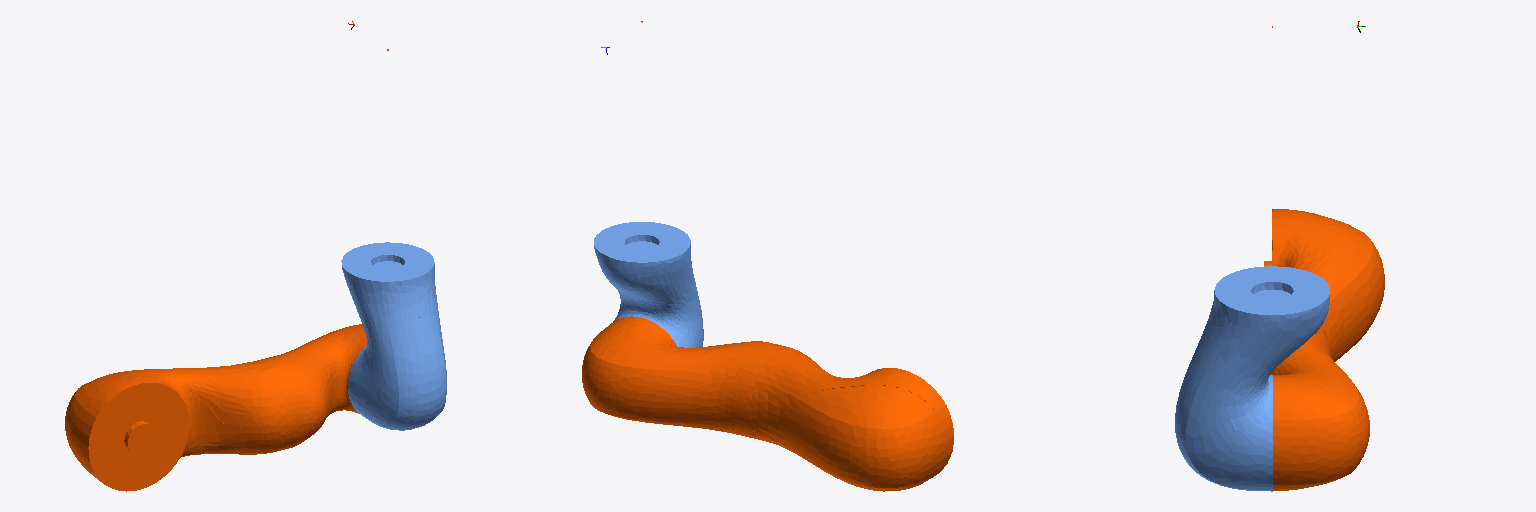
robot.urdf — lbr_iiwa:
<?xml version='1.0' encoding='UTF-8'?>
<!-- ======================================================================= -->
<!-- | This document was autogenerated by xacro from lbr_iiwa.urdf.xacro   | -->
<!-- | Original xacro: https://github.com/rtkg/lbr_iiwa/archive/master.zip | -->
<!-- | EDITING THIS FILE BY HAND IS NOT RECOMMENDED                        | -->
<!-- | Changes ([author]):                                                 | -->
<!-- |   * Removed gazebo tags.                                            | -->
<!-- |   * Removed unused materials.                                       | -->
<!-- |   * Made mesh paths relative.                                       | -->
<!-- |   * Removed material fields from collision segments.                | -->
<!-- |   * Removed the self_collision_checking segment.                    | -->
<!-- |   * Removed transmission segments, since they didn't match the      | -->
<!-- |     convention, will have to added back later.                      | -->
<!-- ======================================================================= -->
<!--LICENSE:                                                                 -->
<!--Copyright (c) 2015, [author] & [author], AASS Research Center,  -->
<!--Orebro University, Sweden                                                -->
<!--All rights reserved.                                                     -->
<!--                                                                         -->
<!--Redistribution and use in source and binary forms, with or without       -->
<!--modification, are permitted provided that the following conditions are   -->
<!--met:                                                                     -->
<!--                                                                         -->
<!--1. Redistributions of source code must retain the above copyright notice,-->
<!--   this list of conditions and the following disclaimer.                 -->
<!--                                                                         -->
<!--2. Redistributions in binary form must reproduce the above copyright     -->
<!--   notice, this list of conditions and the following disclaimer in the   -->
<!--   documentation and/or other materials provided with the distribution.  -->
<!--                                                                         -->
<!--THIS SOFTWARE IS PROVIDED BY THE COPYRIGHT [author] "AS  -->
<!--IS" AND ANY EXPRESS OR IMPLIED WARRANTIES, INCLUDING, BUT NOT LIMITED TO,-->
<!--THE IMPLIED WARRANTIES OF MERCHANTABILITY AND FITNESS FOR A PARTICULAR   -->
<!--PURPOSE ARE DISCLAIMED. IN NO EVENT SHALL THE COPYRIGHT [author]        -->
<!--CONTRIBUTORS BE LIABLE FOR ANY DIRECT, INDIRECT, INCIDENTAL, SPECIAL,    -->
<!--EXEMPLARY, OR CONSEQUENTIAL DAMAGES (INCLUDING, BUT NOT LIMITED TO,      -->
<!--PROCUREMENT OF SUBSTITUTE GOODS OR SERVICES; LOSS OF USE, DATA, OR       -->
<!--PROFITS; OR BUSINESS INTERRUPTION) HOWEVER CAUSED AND ON ANY THEORY OF   -->
<!--LIABILITY, WHETHER IN CONTRACT, STRICT LIABILITY, OR TORT (INCLUDING     -->
<!--NEGLIGENCE OR OTHERWISE) ARISING IN ANY WAY OUT OF THE USE OF THIS       -->
<!--SOFTWARE, EVEN IF ADVISED OF THE POSSIBILITY OF SUCH DAMAGE.             -->
<robot xmlns:xacro="http://www.ros.org/wiki/xacro" name="lbr_iiwa">
  <!-- Import Rviz colors -->
  <material name="Grey">
    <color rgba="0.2 0.2 0.2 0.6"/>
  </material>
  <material name="Orange">
    <color rgba="1.0 0.423529411765 0.0392156862745 0.6"/>
  </material>
  <material name="Blue">
    <color rgba="0.5 0.7 1.0 0.6"/>
  </material>
  <material name="White">
    <color rgba="0.9 0.85 0.9 1.0"/>
    <diffuse>0.9 0.9 0.9 1</diffuse>
    <specular>0.1 0.1 0.1 1</specular>
  </material>
  <material name="marker_red">
    <color rgba="1.0 0.0 0.0 1.0"/>
  </material>
  <material name="marker_green">
    <color rgba="0.0 1.0 0.0 1.0"/>
  </material>
  <material name="marker_blue">
    <color rgba="0.0 0.0 1.0 1.0"/>
  </material>
  <!--Import the lbr iiwa macro -->
  <!--Import Transmissions -->
  <!--Include Utilities -->
  <!--The following macros are adapted from the LWR 4 definitions of the RCPRG - https://github.com/RCPRG-ros-pkg/lwr_robot -->
  <!--Little helper macros to define the inertia matrix needed for links.-->
  <!--Cuboid-->
  <!--Cylinder: length is along the y-axis! -->
  <!--lbr-->
  <link name="lbr_iiwa_link_0">
    <inertial>
      <origin rpy="0 0 0" xyz="-0.1 0 0.07"/>
      <!--Increase mass from 5 Kg original to provide a stable base to carry the
          arm.-->
      <mass value="0.0"/>
      <inertia ixx="0.05" ixy="0" ixz="0" iyy="0.06" iyz="0" izz="0.03"/>
    </inertial>
    <visual>
      <origin rpy="0 0 0" xyz="0 0 0"/>
      <geometry>
        <mesh filename="meshes/link_0.obj"/>
      </geometry>
      <material name="Grey"/>
    </visual>
    <collision>
      <origin rpy="0 0 0" xyz="0 0 0"/>
      <geometry>
        <mesh filename="meshes/link_0.stl"/>
      </geometry>
    </collision>
  </link>
  <!-- joint between link_0 and link_1 -->
  <joint name="lbr_iiwa_joint_1" type="revolute">
    <parent link="lbr_iiwa_link_0"/>
    <child link="lbr_iiwa_link_1"/>
    <origin rpy="0 0 0" xyz="0 0 0.1575"/>
    <axis xyz="0 0 1"/>
    <limit effort="300" lower="-2.96705972839" upper="2.96705972839" velocity="10"/>
    <dynamics damping="0.5"/>
  </joint>
  <link name="lbr_iiwa_link_1">
    <inertial>
      <origin rpy="0 0 0" xyz="0 -0.03 0.12"/>
      <mass value="4"/>
      <inertia ixx="0.1" ixy="0" ixz="0" iyy="0.09" iyz="0" izz="0.02"/>
    </inertial>
    <visual>
      <origin rpy="0 0 0" xyz="0 0 0"/>
      <geometry>
        <mesh filename="meshes/link_1.obj"/>
      </geometry>
      <material name="Blue"/>
    </visual>
    <collision>
      <origin rpy="0 0 0" xyz="0 0 0"/>
      <geometry>
        <mesh filename="meshes/link_1.stl"/>
      </geometry>
    </collision>
  </link>
  <!-- joint between link_1 and link_2 -->
  <joint name="lbr_iiwa_joint_23" type="revolute">
    <parent link="lbr_iiwa_link_1"/>
    <child link="lbr_iiwa_link_23"/>
    <origin rpy="-1.57079632679   0 0" xyz="0 0 0.2025"/>
    <axis xyz="0 0 1"/>
    <limit effort="300" lower="-2.09439510239" upper="2.09439510239" velocity="10"/>
    <dynamics damping="0.5"/>
  </joint>
  <link name="lbr_iiwa_link_23">
    <inertial>
      <origin rpy="0 0 0" xyz="0.0003 0.059 0.042"/>
      <mass value="4"/>
      <inertia ixx="0.05" ixy="0" ixz="0" iyy="0.018" iyz="0" izz="0.044"/>
    </inertial>
    <visual>
      <origin rpy="0 0 0" xyz="0 0 0"/>
      <geometry>
        <mesh filename="meshes/link_23.stl"/>
      </geometry>
      <material name="Orange"/>
    </visual>
    <collision>
      <origin rpy="0 0 0" xyz="0 0 0"/>
      <geometry>
        <mesh filename="meshes/link_23.stl"/>
      </geometry>
    </collision>
  </link>
  <!-- joint between link_3 and link_4 -->
  <joint name="lbr_iiwa_joint_4" type="revolute">
    <parent link="lbr_iiwa_link_23"/>
    <child link="lbr_iiwa_link_4"/>
    <origin rpy="3.14159265359 0 0" xyz="0.42 0 0"/>
    <axis xyz="0 0 1"/>
    <limit effort="300" lower="-2.09439510239" upper="2.09439510239" velocity="10"/>
    <dynamics damping="0.5"/>
  </joint>
  <link name="lbr_iiwa_link_4">
    <inertial>
      <origin rpy="0 0 0" xyz="0 0.067 0.034"/>
      <mass value="2.7"/>
      <inertia ixx="0.03" ixy="0" ixz="0" iyy="0.01" iyz="0" izz="0.029"/>
    </inertial>
    <visual>
      <origin rpy="0 0 0" xyz="0 0 0"/>
      <geometry>
        <mesh filename="meshes/link_4.stl"/>
      </geometry>
      <material name="Blue"/>
    </visual>
    <collision>
      <origin rpy="0 0 0" xyz="0 0 0"/>
      <geometry>
        <mesh filename="meshes/link_4.stl"/>
      </geometry>
    </collision>
  </link>
  <!-- joint between link_4 and link_5 -->
  <joint name="lbr_iiwa_joint_5" type="revolute">
    <parent link="lbr_iiwa_link_4"/>
    <child link="lbr_iiwa_link_5"/>
    <origin rpy="-1.57079632679 3.14159265359 0" xyz="0 0.1845 0"/>
    <axis xyz="0 0 1"/>
    <limit effort="300" lower="-2.96705972839" upper="2.96705972839" velocity="10"/>
    <dynamics damping="0.5"/>
  </joint>
  <link name="lbr_iiwa_link_5">
    <inertial>
      <origin rpy="0 0 0" xyz="0.0001 0.021 0.076"/>
      <mass value="1.7"/>
      <inertia ixx="0.02" ixy="0" ixz="0" iyy="0.018" iyz="0" izz="0.005"/>
    </inertial>
    <visual>
      <origin rpy="0 0 0" xyz="0 0 0"/>
      <geometry>
        <mesh filename="meshes/link_5.stl"/>
      </geometry>
      <material name="Blue"/>
    </visual>
    <collision>
      <origin rpy="0 0 0" xyz="0 0 0"/>
      <geometry>
        <mesh filename="meshes/link_5.stl"/>
      </geometry>
    </collision>
  </link>
  <!-- joint between link_5 and link_6 -->
  <joint name="lbr_iiwa_joint_6" type="revolute">
    <parent link="lbr_iiwa_link_5"/>
    <child link="lbr_iiwa_link_6"/>
    <origin rpy="1.57079632679 0 0" xyz="0 0 0.2155"/>
    <axis xyz="0 0 1"/>
    <limit effort="300" lower="-2.09439510239" upper="2.09439510239" velocity="10"/>
    <dynamics damping="0.5"/>
  </joint>
  <link name="lbr_iiwa_link_6">
    <inertial>
      <origin rpy="0 0 0" xyz="0 0.0006 0.0004"/>
      <mass value="1.8"/>
      <inertia ixx="0.005" ixy="0" ixz="0" iyy="0.0036" iyz="0" izz="0.0047"/>
    </inertial>
    <visual>
      <origin rpy="0 0 0" xyz="0 0 0"/>
      <geometry>
        <mesh filename="meshes/link_6.obj"/>
      </geometry>
      <material name="Orange"/>
    </visual>
    <collision>
      <origin rpy="0 0 0" xyz="0 0 0"/>
      <geometry>
        <mesh filename="meshes/link_6.stl"/>
      </geometry>
    </collision>
  </link>
  <!-- joint between link_6 and link_7 -->
  <joint name="lbr_iiwa_joint_7" type="revolute">
    <parent link="lbr_iiwa_link_6"/>
    <child link="lbr_iiwa_link_7"/>
    <origin rpy="-1.57079632679 3.14159265359 0" xyz="0 0.081 0"/>
    <axis xyz="0 0 1"/>
    <limit effort="300" lower="-3.05432619099" upper="3.05432619099" velocity="10"/>
    <dynamics damping="0.5"/>
  </joint>
  <link name="lbr_iiwa_link_7">
    <inertial>
      <origin rpy="0 0 0" xyz="0 0 0.02"/>
      <mass value="0.3"/>
      <inertia ixx="0.001" ixy="0" ixz="0" iyy="0.001" iyz="0" izz="0.001"/>
    </inertial>
    <visual>
      <origin rpy="0 0 0" xyz="0 0 0"/>
      <geometry>
        <mesh filename="meshes/link_7.obj"/>
      </geometry>
      <material name="Grey"/>
    </visual>
    <collision>
      <origin rpy="0 0 0" xyz="0 0 0"/>
      <geometry>
        <mesh filename="meshes/link_7.stl"/>
      </geometry>
    </collision>
  </link>

  <!-- joint between link_7 and world -->
  <joint name="world_joint" type="fixed">
    <parent link="lbr_iiwa_link_7"/>
    <child link="world_link"/>
    <origin rpy="0 3.14159265359 0" xyz="0 0 0.045"/>
    <axis xyz="0 0 1"/>
  </joint>
  <link name="world_link">
    <inertial>
      <origin rpy="0 0 0" xyz="0 0 0"/>
      <mass value="0.001"/>
      <inertia ixx="0.0001" ixy="0" ixz="0" iyy="0.0001" iyz="0" izz="0.0001"/>
    </inertial>
    <visual>
      <origin rpy="0 0 0" xyz="0 0 0"/>
      <geometry>
        <box size="0.002 0.002 0.002"/>
      </geometry>
      <material name="Orange"/>
    </visual>
  </link>

  <joint name="tcp_joint" type="fixed">
    <parent link="world_link"/>
    <child link="tcp_link"/>
    <origin rpy="-0.3 0.4 0.2" xyz="0 0.1 0"/>
    <axis xyz="0 0 1"/>
  </joint>
  <link name="tcp_link">
    <inertial>
      <origin rpy="0 0 0" xyz="0 0 0"/>
      <mass value="0.001"/>
      <inertia ixx="0.0001" ixy="0" ixz="0" iyy="0.0001" iyz="0" izz="0.0001"/>
    </inertial>
    <visual>
      <origin rpy="0 0 0" xyz="0 0 0"/>
      <geometry>
        <box size="0.002 0.002 0.002"/>
      </geometry>
      <material name="Orange"/>
    </visual>
  </link>



  <link name="marker_origin">
    <visual>
      <geometry>
        <box size="0.002 0.002 0.002"/>
      </geometry>
      <origin xyz="0 0 0" rpy="0 0 0"/>
      <material name="White"/>
    </visual>
    <inertial>
      <origin xyz="0 0 0" rpy="0 0 0"/>
      <mass value="0.001"/>
      <inertia ixx="0.00001" ixy="0" ixz="0" iyy="0.00001" iyz="0" izz="0.00001"/>
    </inertial>
  </link>

  <link name="marker_x">
    <visual>
      <geometry>
        <box size="0.01 0.001 0.001"/>
      </geometry>
      <origin xyz="0 0 0" rpy="0 0 0"/>
      <material name="marker_red"/>
    </visual>
    <inertial>
      <origin xyz="0 0 0" rpy="0 0 0"/>
      <mass value="0.001"/>
      <inertia ixx="0.00001" ixy="0" ixz="0" iyy="0.00001" iyz="0" izz="0.00001"/>
    </inertial>
  </link>
  <link name="marker_y">
    <visual>
      <geometry>
        <box size="0.001 0.01 0.001"/>
      </geometry>
      <origin xyz="0 0 0" rpy="0 0 0"/>
      <material name="marker_green"/>
    </visual>
    <inertial>
      <origin xyz="0 0 0" rpy="0 0 0"/>
      <mass value="0.001"/>
      <inertia ixx="0.00001" ixy="0" ixz="0" iyy="0.00001" iyz="0" izz="0.00001"/>
    </inertial>
  </link>
  <link name="marker_z">
    <visual>
      <geometry>
        <box size="0.001 0.001 0.01"/>
      </geometry>
      <origin xyz="0 0 0" rpy="0 0 0"/>
      <material name="marker_blue"/>
    </visual>
    <inertial>
      <origin xyz="0 0 0" rpy="0 0 0"/>
      <mass value="0.001"/>
      <inertia ixx="0.00001" ixy="0" ixz="0" iyy="0.00001" iyz="0" izz="0.00001"/>
    </inertial>
  </link>

  <joint name="connector_origin" type="fixed">
    <parent link="tcp_link"/>
    <child link="marker_origin"/>
    <origin xyz="0.0 0.0 0" rpy="0 0 0"/>
  </joint>
  <joint name="marker_origin_x" type="fixed">
    <parent link="marker_origin"/>
    <child link="marker_x"/>
    <origin xyz="0.005 0.0 0.0" rpy="0 0 0"/>
  </joint>
  <joint name="marker_origin_y" type="fixed">
    <parent link="marker_origin"/>
    <child link="marker_y"/>
    <origin xyz="0.0 0.005 0.0" rpy="0 0 0"/>
  </joint>
  <joint name="marker_origin_z" type="fixed">
    <parent link="marker_origin"/>
    <child link="marker_z"/>
    <origin xyz="0.0 0.0 0.005" rpy="0 0 0"/>
  </joint>



</robot>

--- Facts derived from the render (not from the file) ---
Views: 3 orthographic renders of the robot side by side, from view 1: azimuth 30°, elevation 25°; view 2: azimuth 150°, elevation 25°; view 3: azimuth 270°, elevation 25°.
Robot: lbr_iiwa — 13 links, 12 joints (6 revolute, 6 fixed); root link lbr_iiwa_link_0; default pose: all joints at 0.
Visible links, largest first — view 1: lbr_iiwa_link_23, lbr_iiwa_link_4; view 2: lbr_iiwa_link_23, lbr_iiwa_link_4; view 3: lbr_iiwa_link_4, lbr_iiwa_link_23.
Link boxes in pixels (x1,y1,x2,y2): lbr_iiwa_link_23: [65, 324, 366, 491]; lbr_iiwa_link_4: [341, 242, 446, 430]; lbr_iiwa_link_23: [582, 316, 953, 491]; lbr_iiwa_link_4: [594, 222, 703, 347]; lbr_iiwa_link_4: [1175, 266, 1329, 491]; lbr_iiwa_link_23: [1264, 209, 1384, 490].
Bounding box of the posed robot: 0.5737 × 0.2466 × 0.6156 m (x, y, z).
Meshes: 7 distinct files referenced, 2 mesh visuals loaded (2 binary STL); not drawn: 5 (reference not matched to a file when rendering).